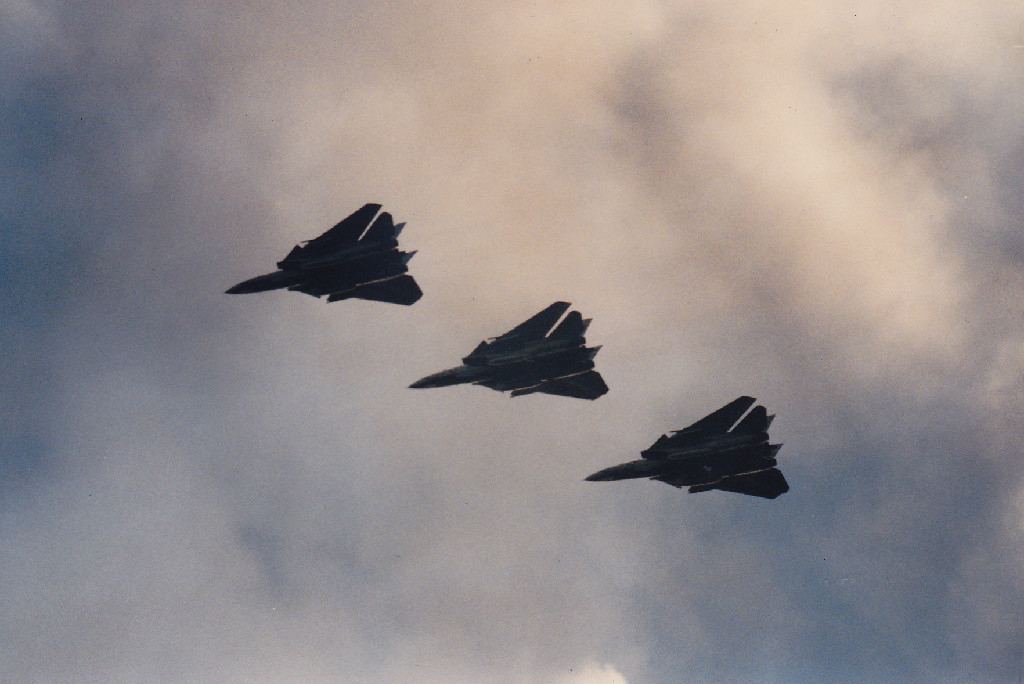F14: (581, 395, 791, 500), (221, 202, 424, 306), (405, 301, 610, 402)
